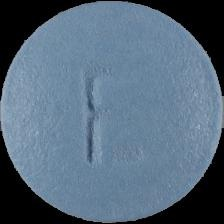0456-1512: (0, 0, 224, 224)
